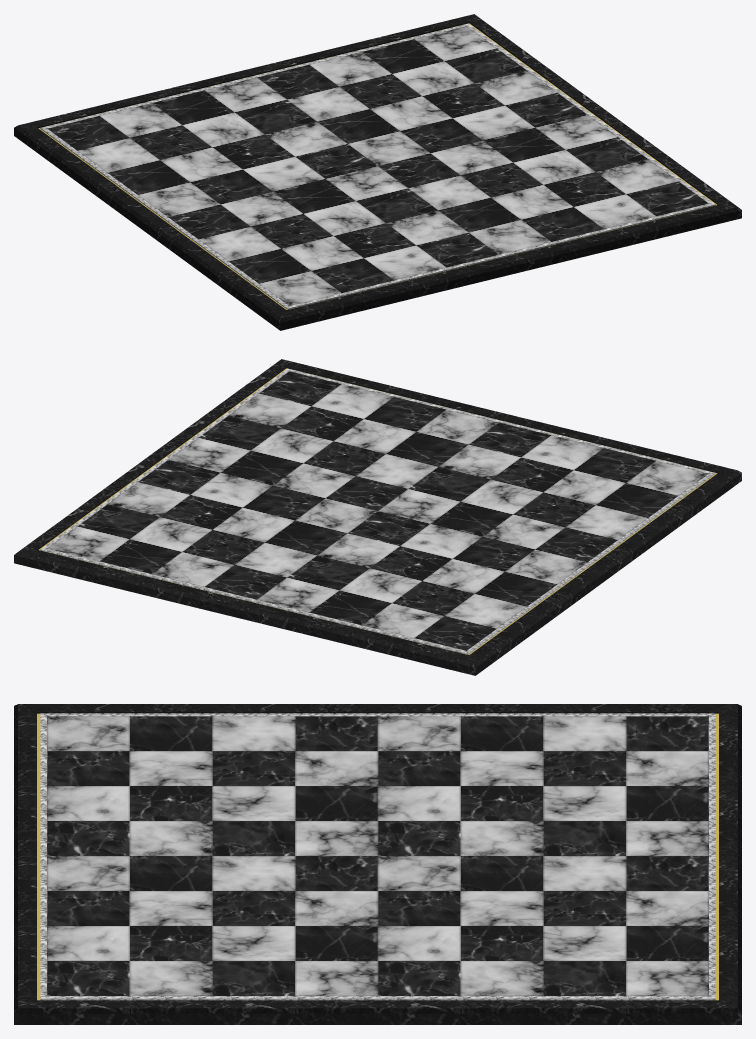
Rendered from chessboard.glb.
3 renders of one model, top to bottom at view 1: azimuth 30°, elevation 25°; view 2: azimuth 150°, elevation 25°; view 3: azimuth 270°, elevation 25°, orthographic. The views are drawn at different scales.
Parts seen in each view (by area): view 1: board; view 2: board; view 3: board.
Boxes of the visible parts, x1=… form: board: x1=14, y1=14, x2=741, y2=330; board: x1=14, y1=359, x2=741, y2=675; board: x1=14, y1=704, x2=741, y2=1024.
Bounding box in the file's own units: 22 × 0.5 × 22.
Materials: 4 (4 with a texture image).
